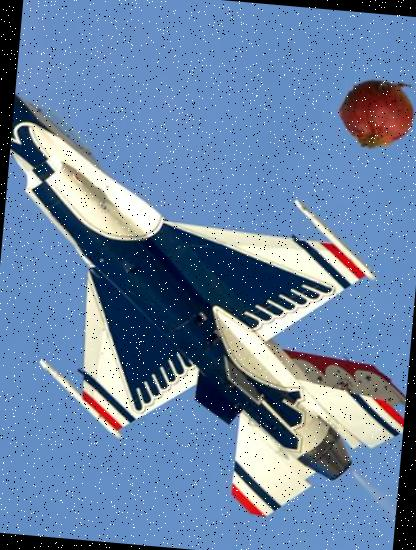Onion: (327, 67, 416, 165)
